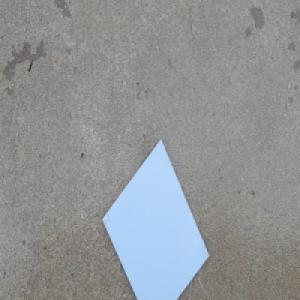PaintChip: (101, 138, 210, 300)
